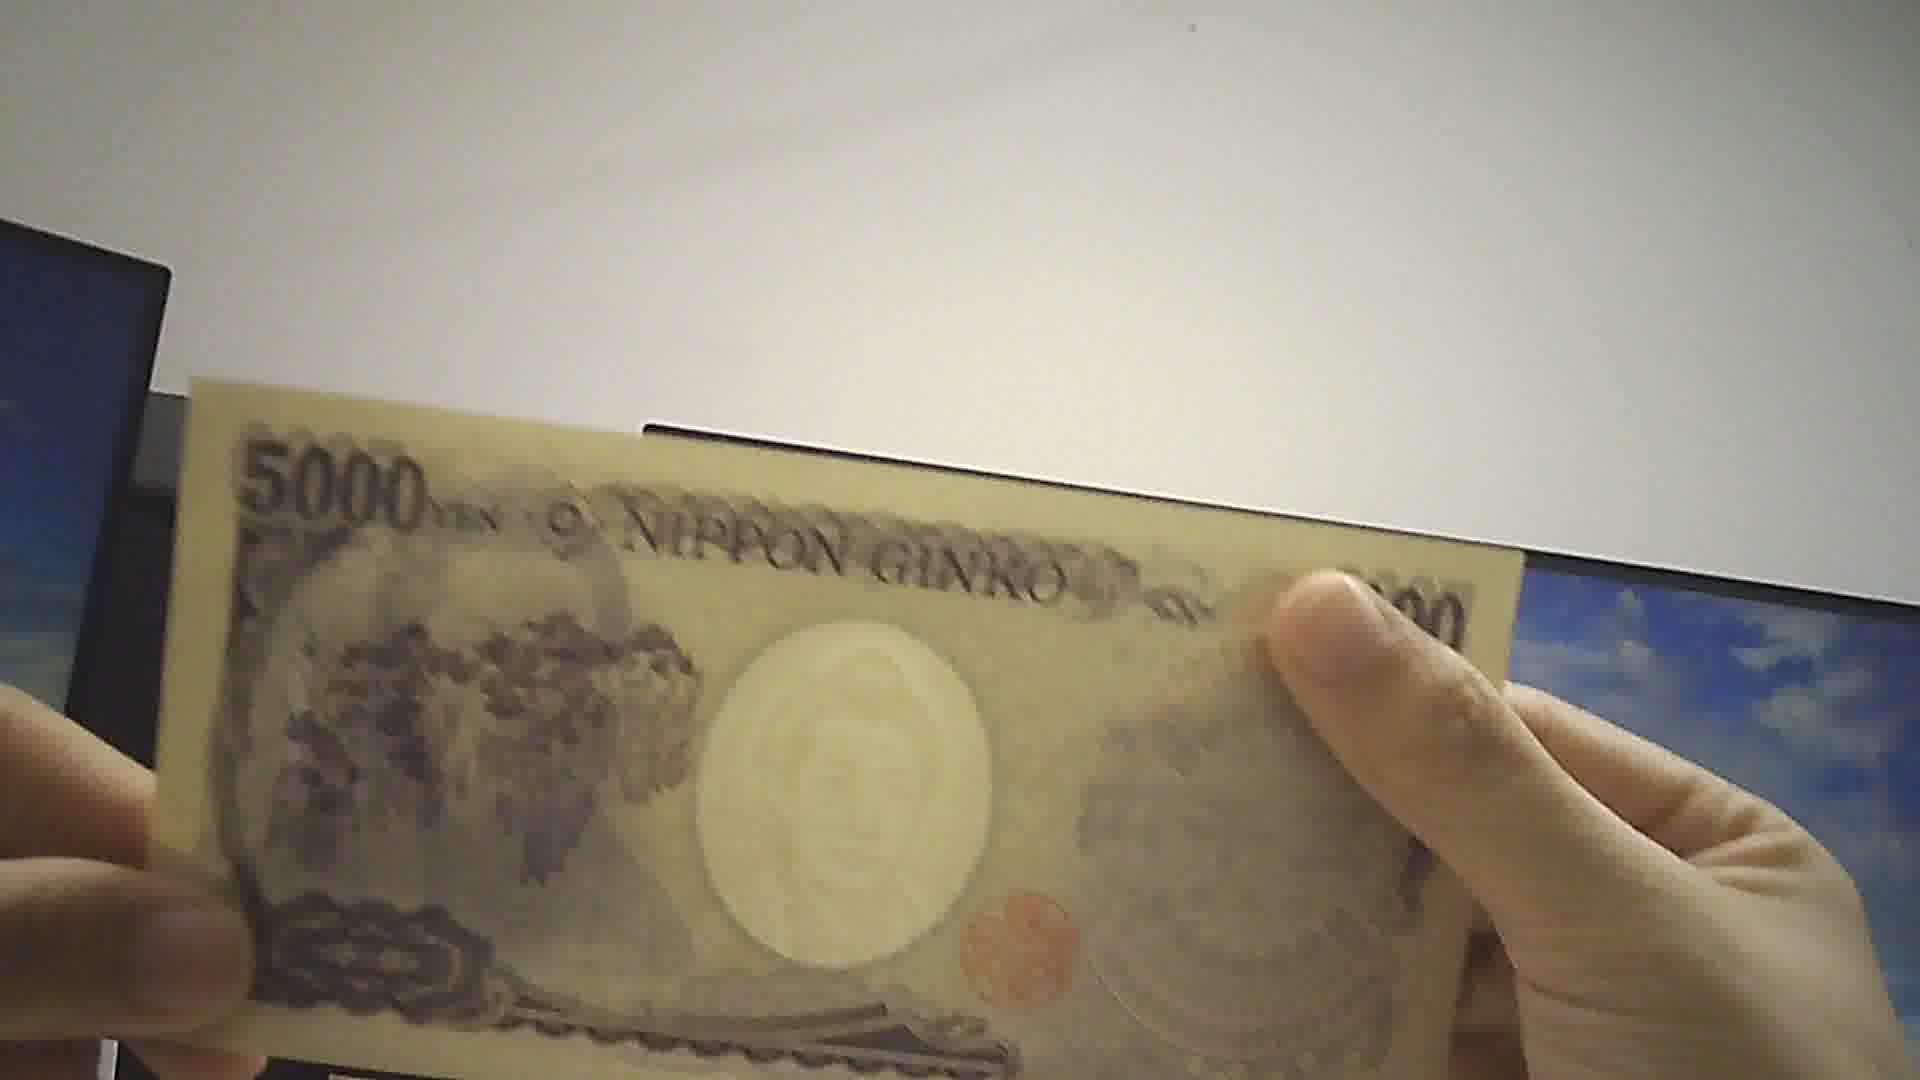5,000 Yen: (160, 369, 1507, 1058)
